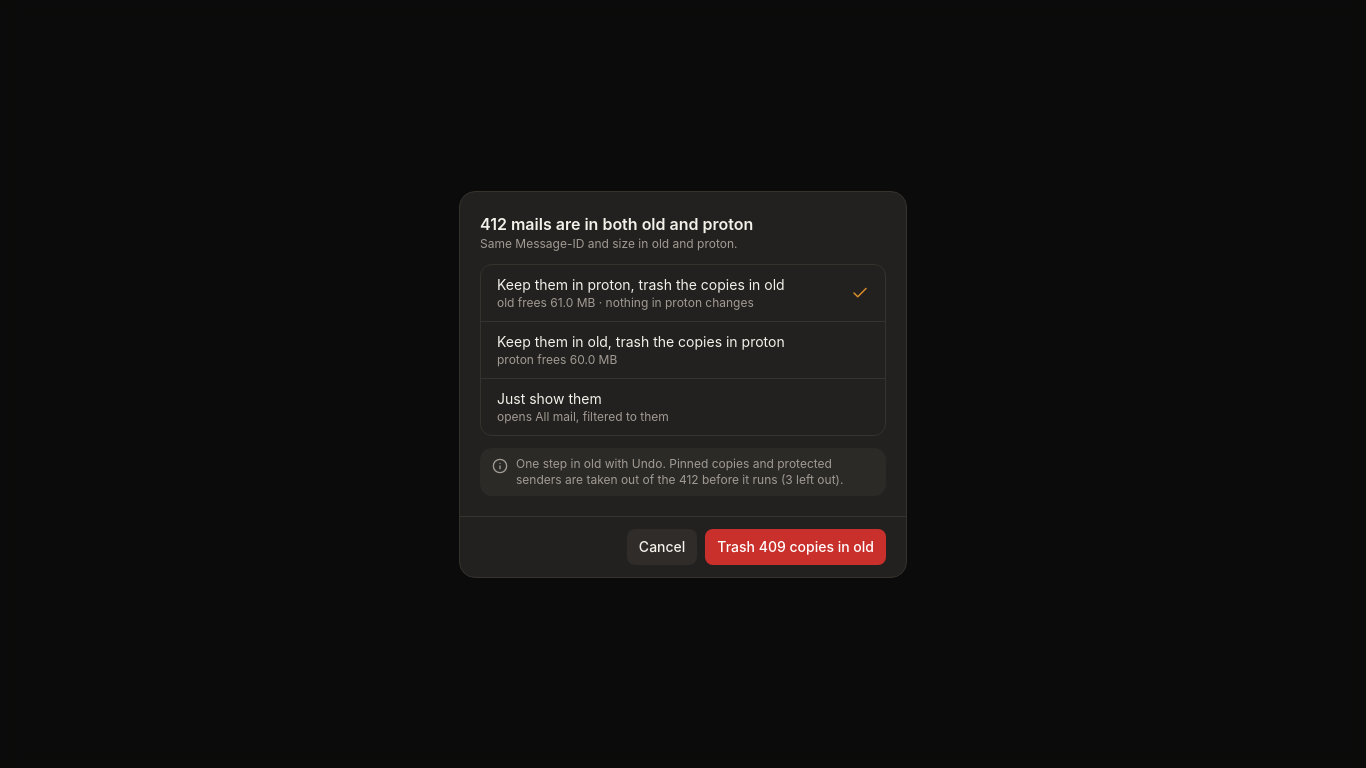
Test: the other choice moves the button and the note; just show them has its own
Click the radio button labelled "Keep them in old, trash the copies in proton" at (683,350), box [481,322,885,378]
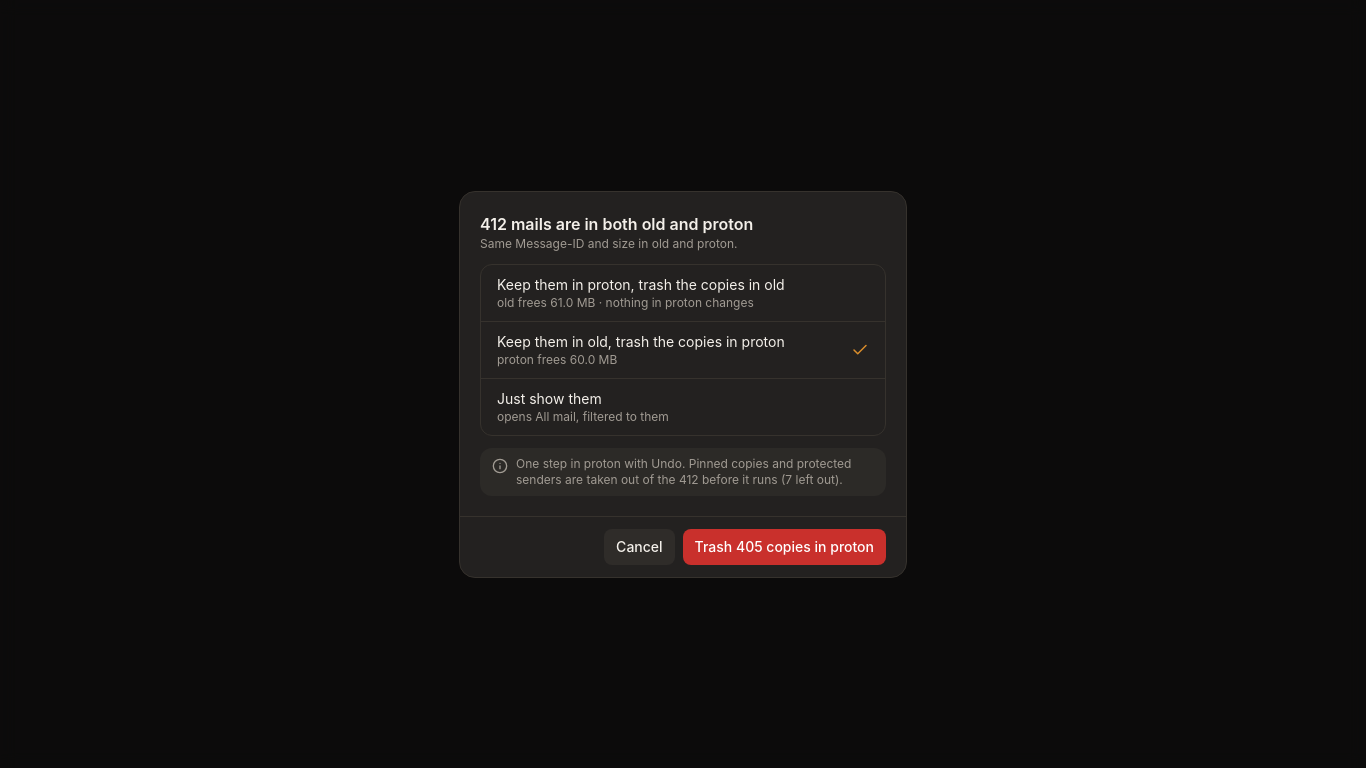
Expected: the text "One step in proton with Undo." is shown, [516,456,851,486]
Click the radio button labelled "Just show them opens All mail, filtered to them" at (549,398), box [481,378,885,434]
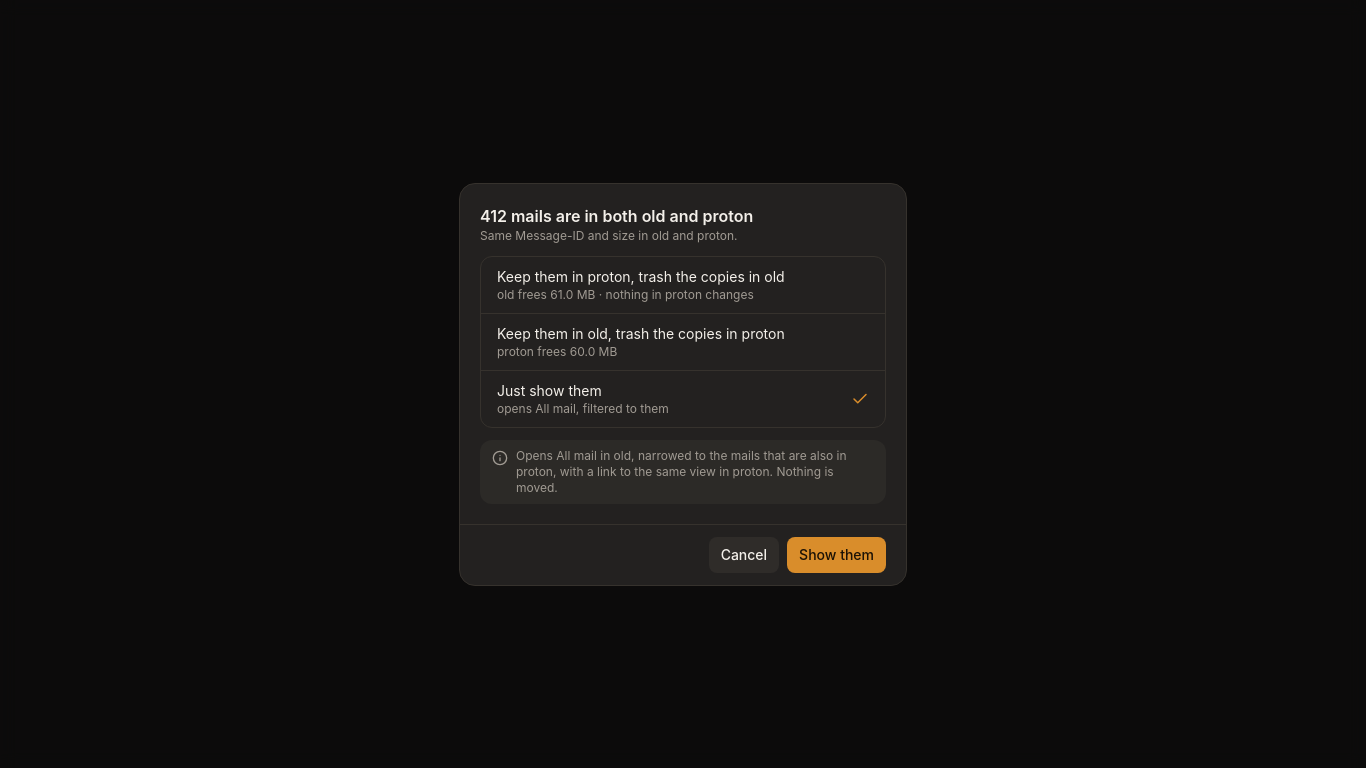
Expected: the text "Nothing is moved." is shown, [516,448,847,494]
